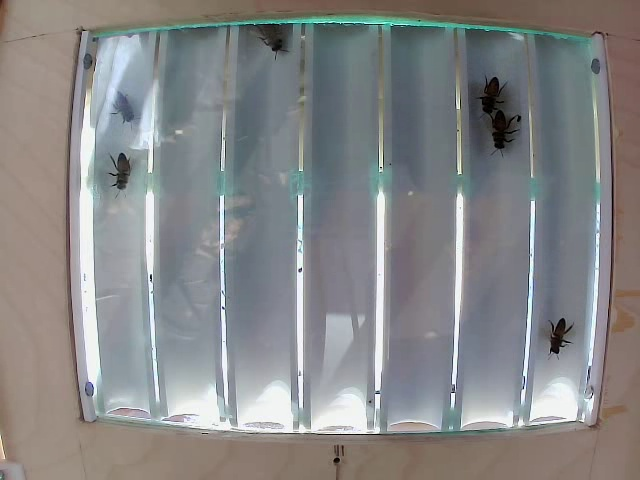bee: (109, 92, 155, 142), (246, 24, 300, 66), (541, 302, 578, 352), (97, 154, 146, 185), (478, 78, 507, 120), (484, 112, 511, 156)
